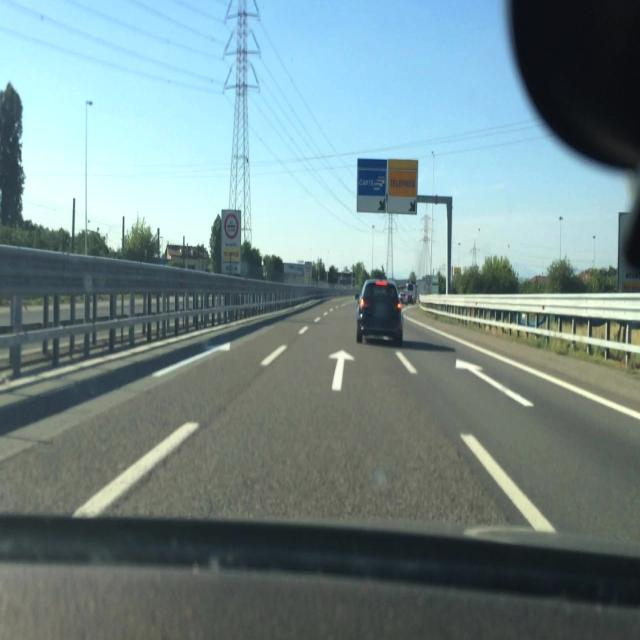car: (355, 278, 404, 346)
